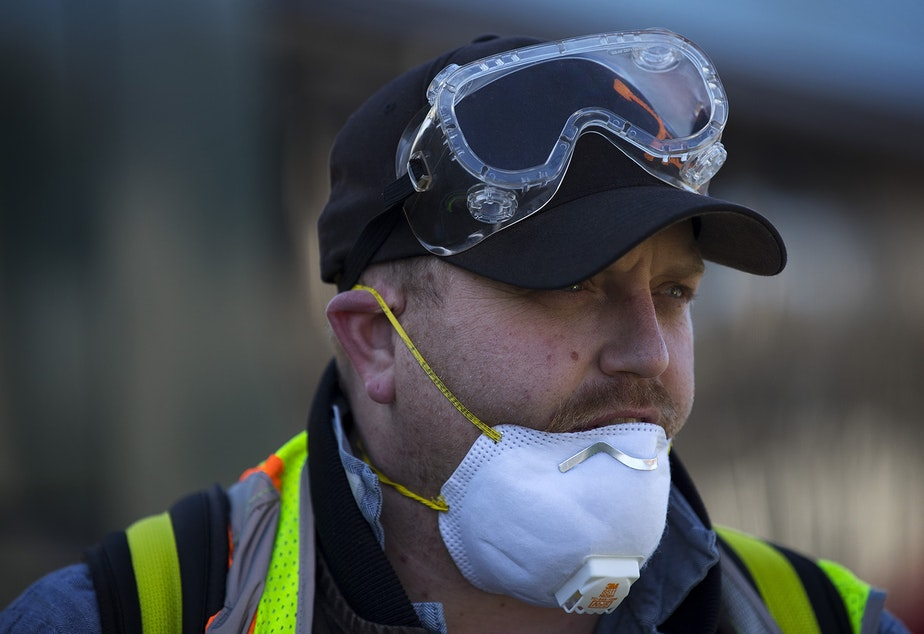n95: (442, 412, 695, 624)
